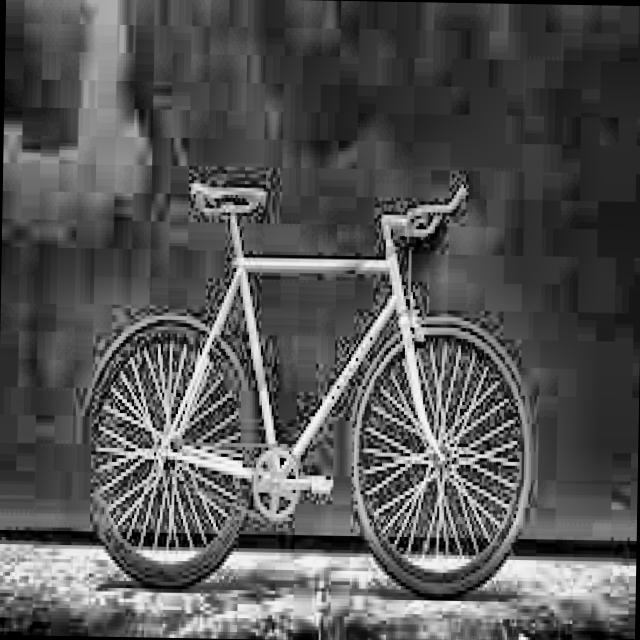bicycle: (76, 167, 546, 610)
